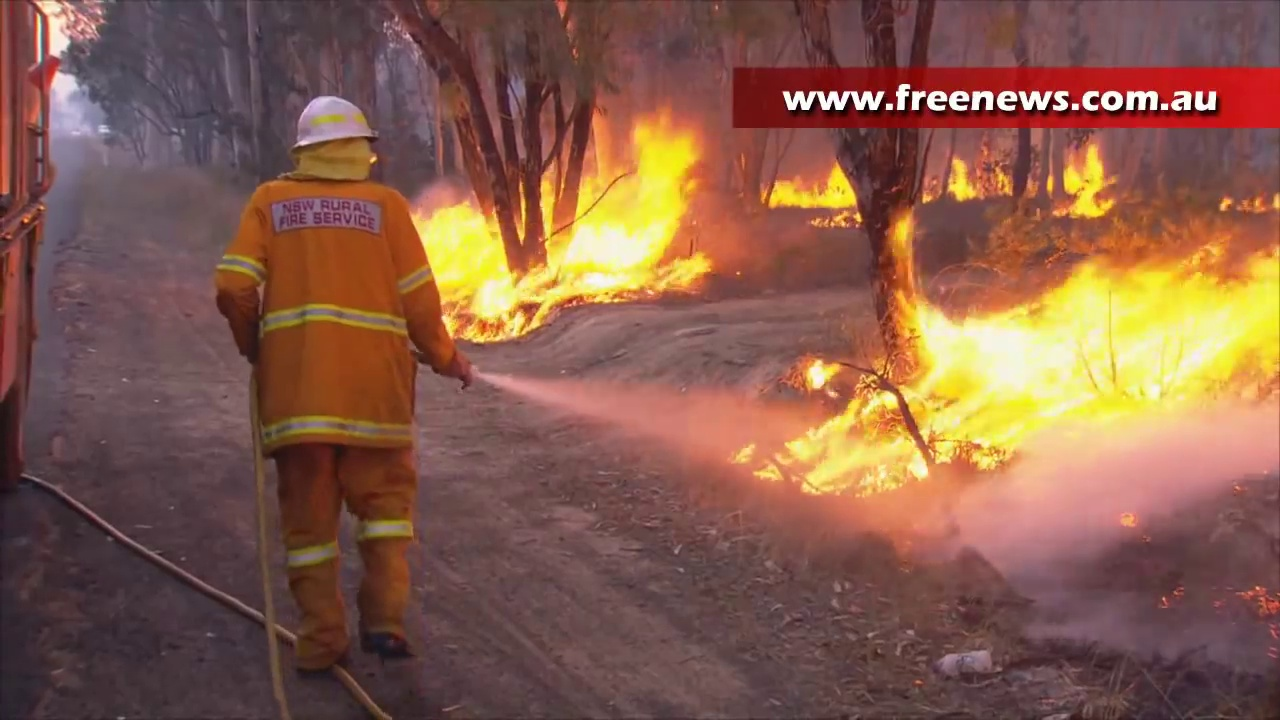fire: (783, 267, 1280, 491), (421, 147, 694, 337), (773, 165, 853, 219), (1065, 143, 1108, 215), (950, 156, 1011, 201)
